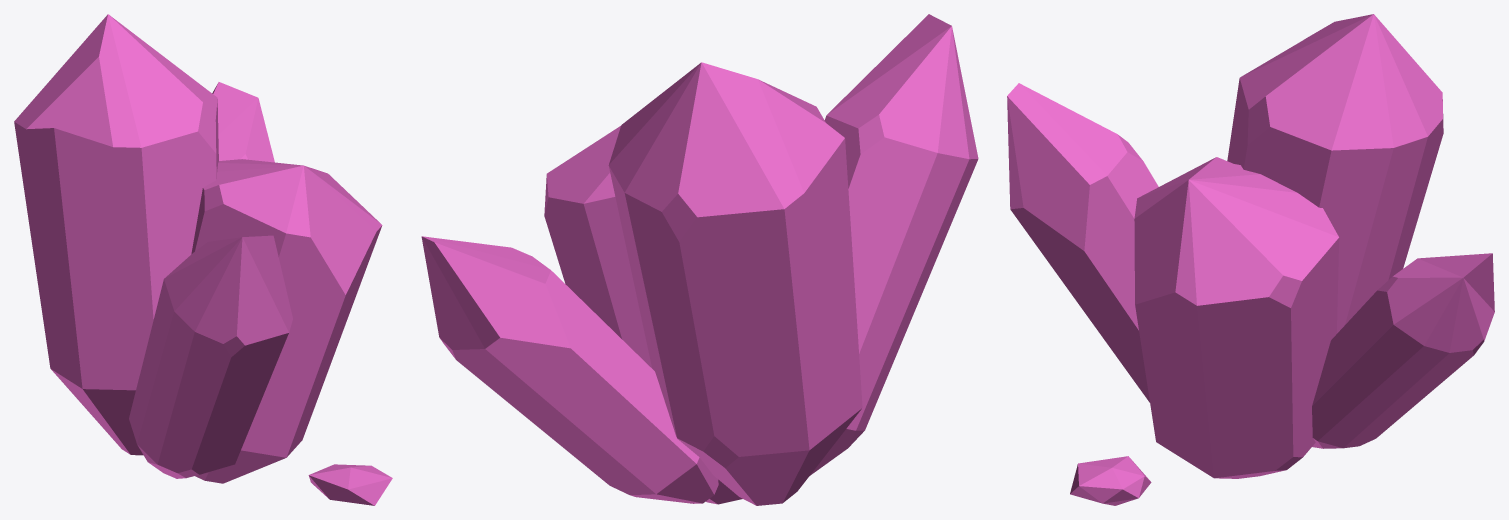
File: crystal1.glb
The picture shows the model from 3 angles, left to right: view 1: azimuth 30°, elevation 25°; view 2: azimuth 150°, elevation 25°; view 3: azimuth 270°, elevation 25°; orthographic projection. The views are drawn at different scales.
Visible parts, largest first — view 1: crystal1; view 2: crystal1; view 3: crystal1.
Part boxes in pixels (left/top/right/bottom): crystal1: left=14, top=14, right=392, bottom=505; crystal1: left=421, top=14, right=978, bottom=505; crystal1: left=1007, top=14, right=1494, bottom=505.
Bounding box in the file's own units: 1.76 × 2.55 × 2.57.
